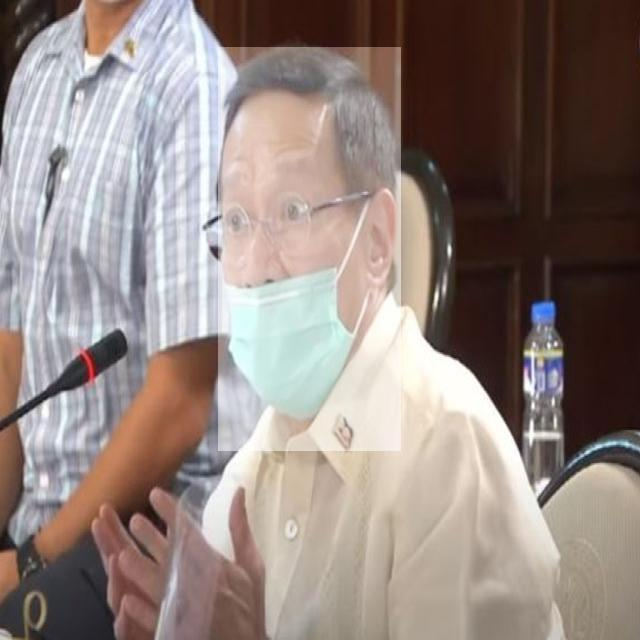hairnet: (218, 198, 389, 424)
